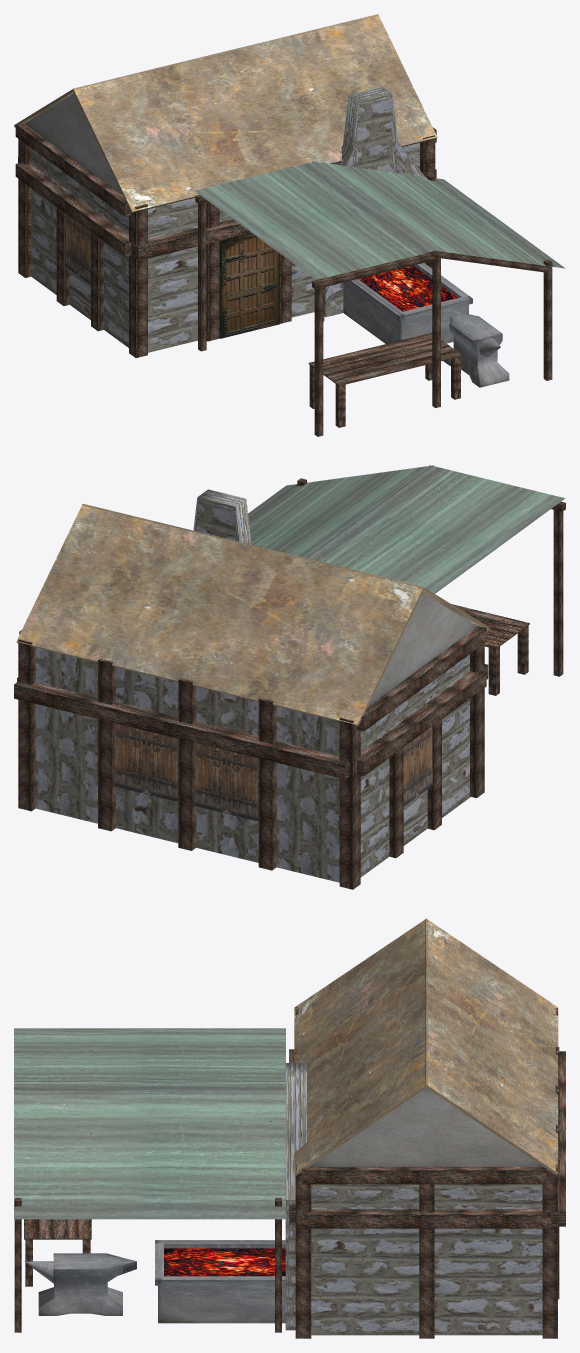
Rendered from Blacksmith.FBX.
The picture shows the model from 3 angles, top to bottom: view 1: azimuth 30°, elevation 25°; view 2: azimuth 150°, elevation 25°; view 3: azimuth 270°, elevation 25°; orthographic projection. The views are drawn at different scales.
Visible parts, largest first — view 1: Roof002, m, Plane003, Plane002, Door, Chimney, LavaBox, Box001, Prism1, WoodenBeam006, Anvil, WoodenPillar002 (+18 smaller); view 2: Roof1, m, Plane003, Plane002, WoodenBeam015, HatchWindowRight (×3), HatchWindowLeft (×3), Prism1, WoodenBeam006, WoodenPillar001, WoodenPillar018, WoodenBeam009 (+12 smaller); view 3: Plane002, m, Roof1, Roof002, Plane003, Prism1, LavaBox, r, Anvil, WoodenBeam011, Chimney, Plane001 (+7 smaller).
Boxes of the visible parts, x1,y1,x2,y2 form: Roof002: (72,14,437,212); m: (31,143,419,352); Plane003: (194,161,437,279); Plane002: (312,161,565,268); Door: (219,233,279,338); Chimney: (324,86,424,317); LavaBox: (341,256,472,343); Box001: (308,333,462,385); Prism1: (25,93,122,195); WoodenBeam006: (15,162,131,256); Anvil: (443,310,509,387); WoodenPillar002: (129,204,147,357); Roof1: (16,503,424,725); m: (35,647,470,882); Plane003: (304,465,564,593); Plane002: (248,465,433,558); WoodenBeam015: (14,681,349,779); HatchWindowRight (×3): (113,723,417,813); HatchWindowLeft (×3): (146,726,432,821); Prism1: (368,592,477,706); WoodenBeam006: (357,671,486,775); WoodenPillar001: (339,717,360,889); WoodenPillar018: (258,698,276,870); WoodenBeam009: (357,625,486,731); Plane002: (14,1091,285,1219); m: (311,1184,542,1335); Roof1: (424,918,558,1175); Roof002: (294,918,427,1175); Plane003: (14,1028,285,1094); Prism1: (309,1088,547,1169); LavaBox: (155,1240,285,1323); r: (302,1209,550,1228); Anvil: (38,1253,136,1315); WoodenBeam011: (302,1167,546,1184); Chimney: (285,1063,306,1330); Plane001: (164,1248,285,1276).
Size of the model in its own units: 64.69 by 45.61 by 89.49.
